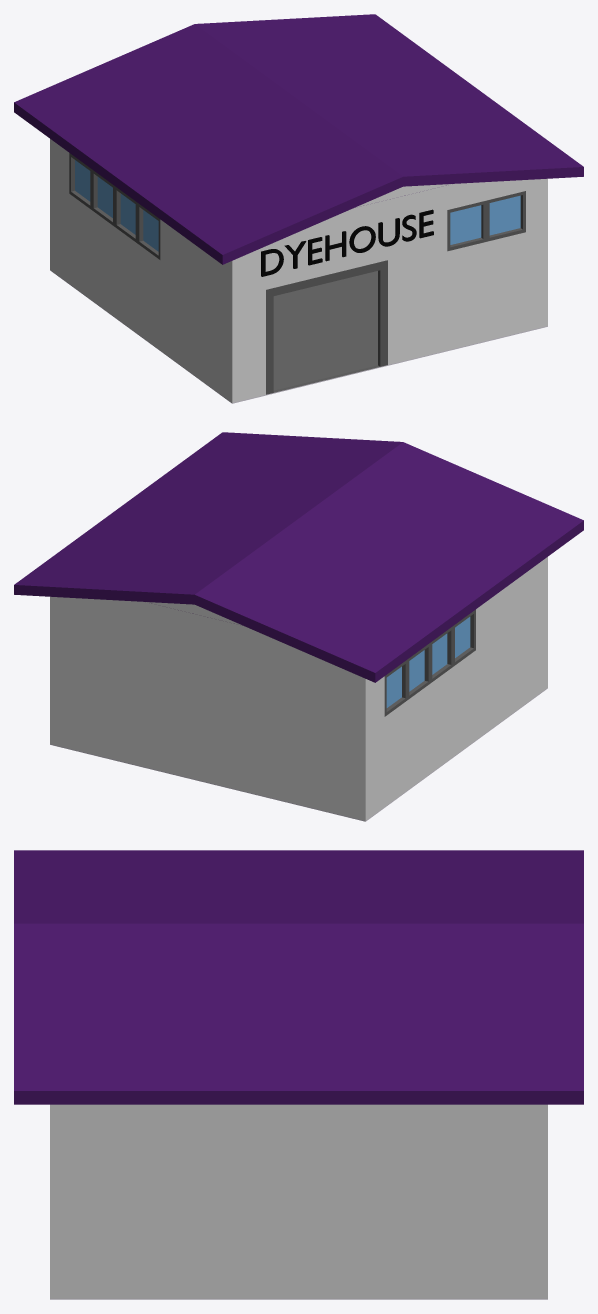
Rendered from DYEHOUSE.fbx.
The picture shows the model from 3 angles, top to bottom: view 1: azimuth 30°, elevation 25°; view 2: azimuth 150°, elevation 25°; view 3: azimuth 270°, elevation 25°; orthographic projection. The views are drawn at different scales.
Parts seen in each view (by area): view 1: building_001, Text.001; view 2: building_001; view 3: building_001.
Boxes of the visible parts, x1,y1,x2,y2 form: building_001: (14, 14, 583, 403); Text.001: (261, 209, 433, 276); building_001: (14, 432, 583, 821); building_001: (14, 850, 583, 1299).
Size of the model in its own units: 458 by 240 by 458.
